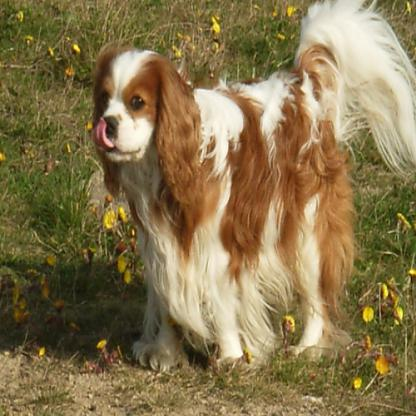dog: (95, 0, 415, 375)
